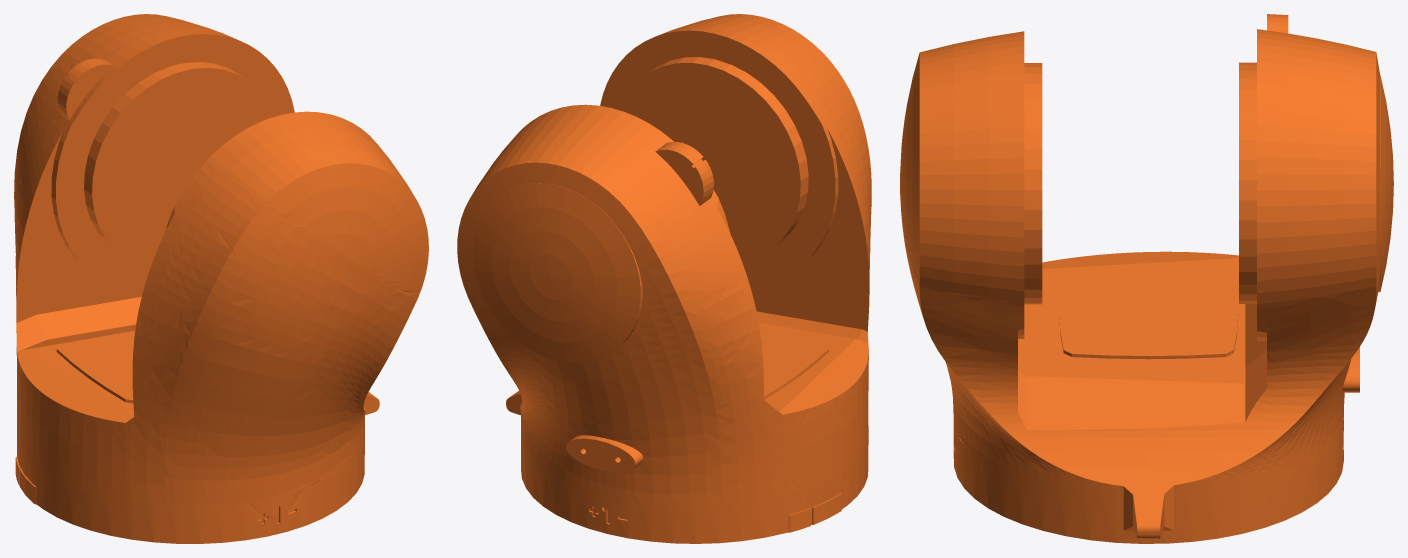
Rendered from shoulder.dae.
The picture shows the model from 3 angles, left to right: view 1: azimuth 30°, elevation 25°; view 2: azimuth 150°, elevation 25°; view 3: azimuth 270°, elevation 25°; orthographic projection. The views are drawn at different scales.
Parts seen in each view (by area): view 1: link_1; view 2: link_1; view 3: link_1.
Boxes of the visible parts, x1,y1,x2,y2 form: link_1: (14,14,428,543); link_1: (457,14,871,543); link_1: (900,14,1393,543).
Size of the model in its own units: 2.43 by 2.76 by 2.69.
